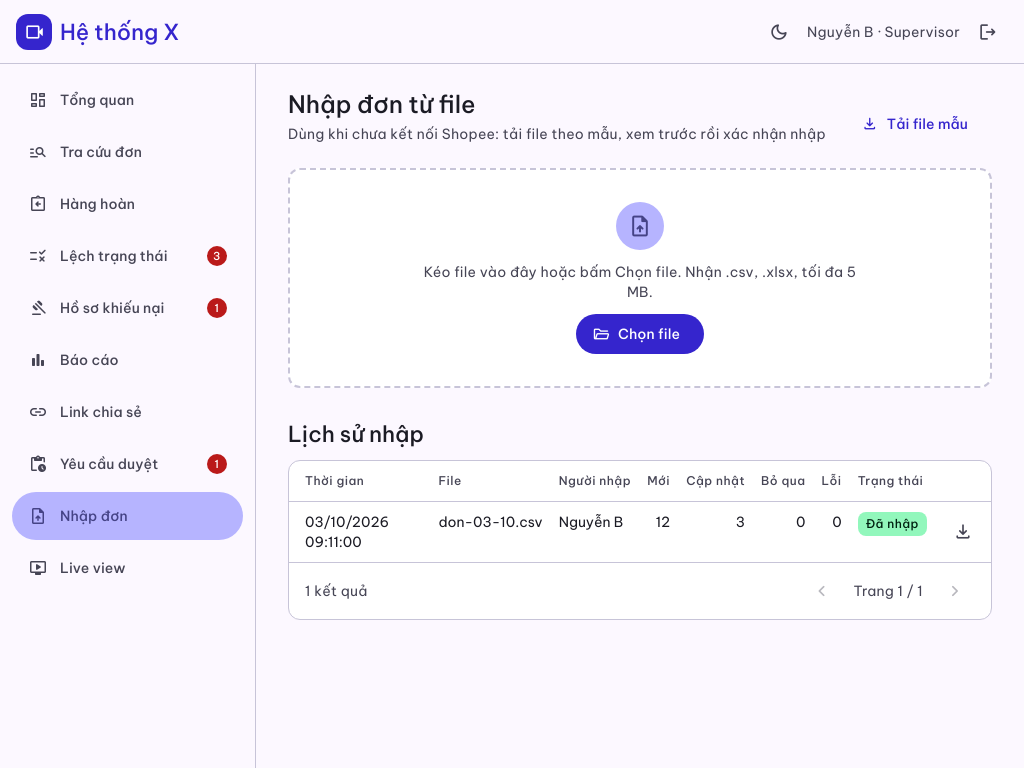
Test case: TC-05.21 (UI): file gốc quá 90 ngày → toast
The image size is (1024, 768).
What coordinates should you click on to do the following:
click the button named "Tải file gốc don-03-10.csv"
I would click on:
 (963, 532)
Its box is 943,512 -> 983,552.
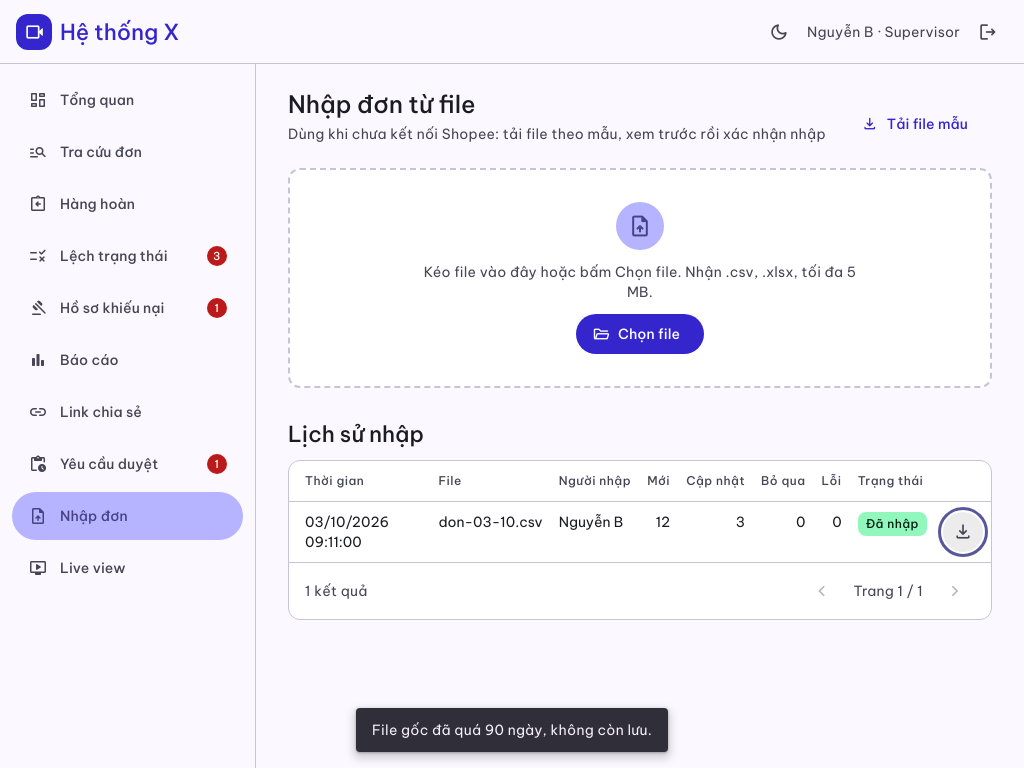
Check: the text "File gốc đã quá 90 ngày, không còn lưu." is shown, box 356,708 -> 668,752
